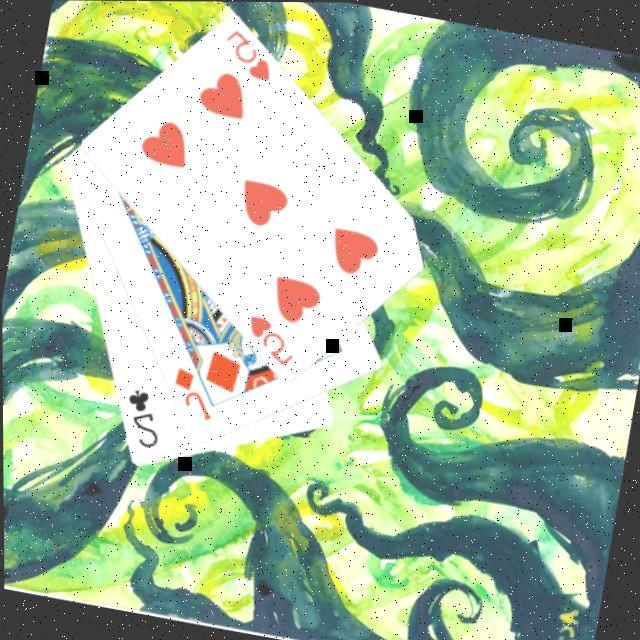2C: (114, 382, 166, 452)
5H: (236, 309, 300, 370), (214, 23, 278, 84)
JD: (162, 362, 219, 424)
